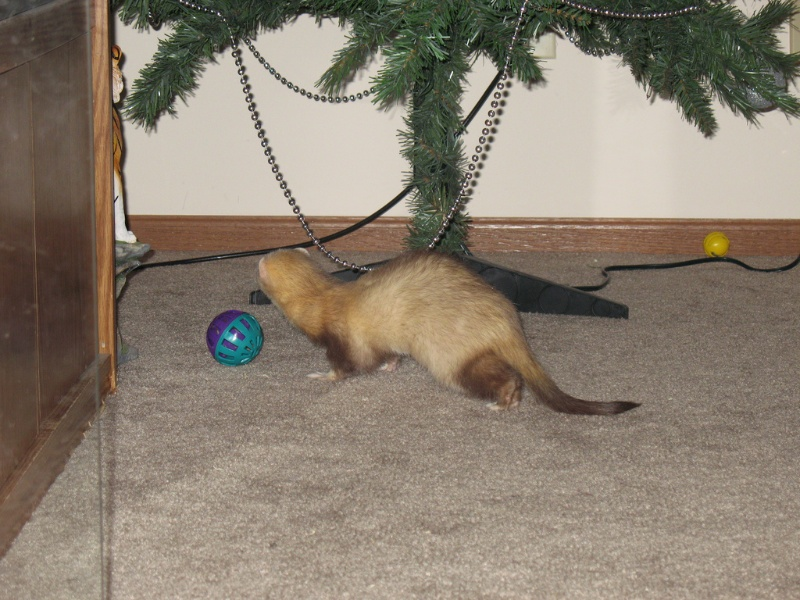minkish: (251, 242, 650, 430)
